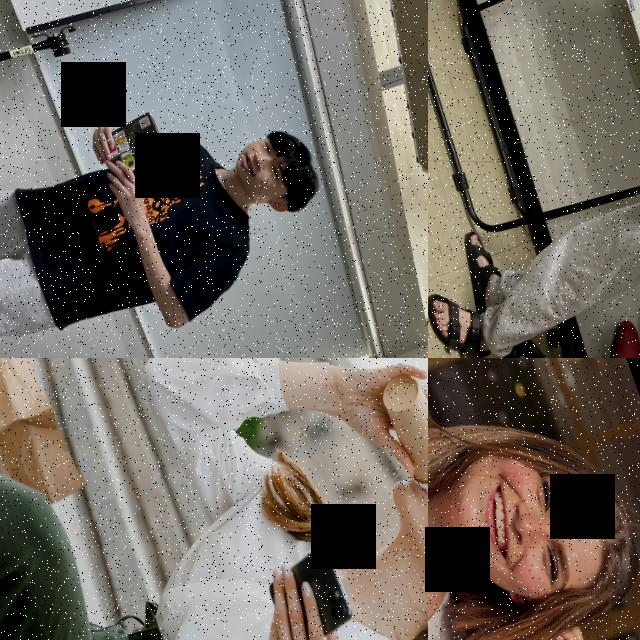cup: (374, 362, 428, 503)
